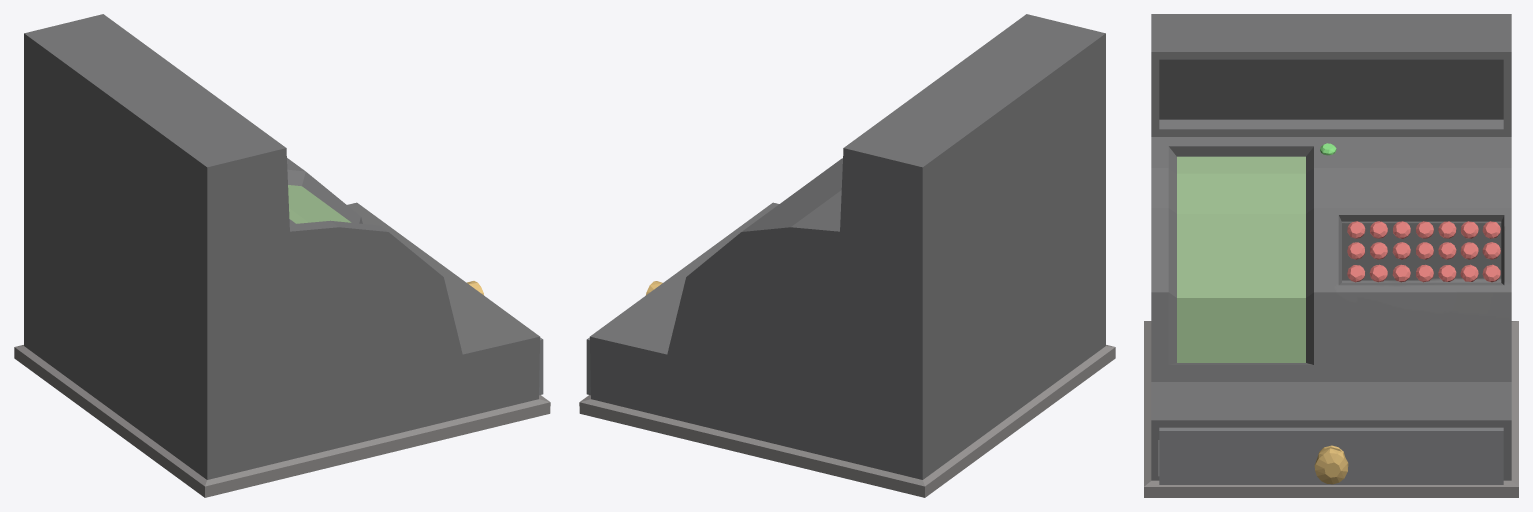
The model's file is CashierRegister.fbx.
The picture shows the model from 3 angles, left to right: view 1: azimuth 30°, elevation 25°; view 2: azimuth 150°, elevation 25°; view 3: azimuth 270°, elevation 25°; orthographic projection.
Parts seen in each view (by area): view 1: CashierRegister; view 2: CashierRegister; view 3: CashierRegister, Cabinet.
Part boxes in pixels (x1,y1,x2,y2): CashierRegister: (14, 14, 550, 497); CashierRegister: (579, 14, 1115, 497); CashierRegister: (1144, 14, 1518, 497); Cabinet: (1159, 427, 1503, 484).
Bounding box in the file's own units: 234 × 197 × 208.
Materials: 5 (1 with a texture image).
